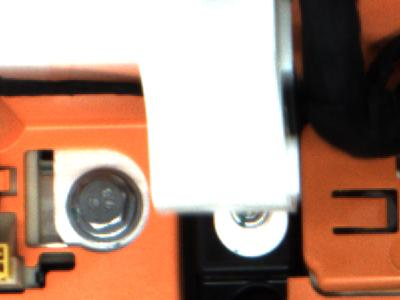nut_b: (68, 162, 146, 251)
